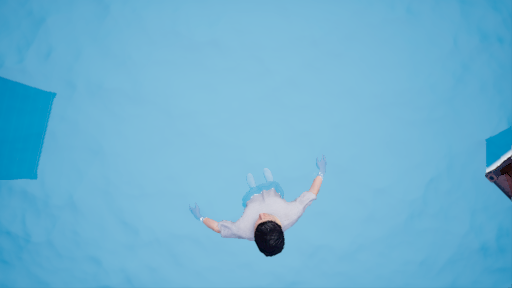person: (197, 154, 324, 246)
